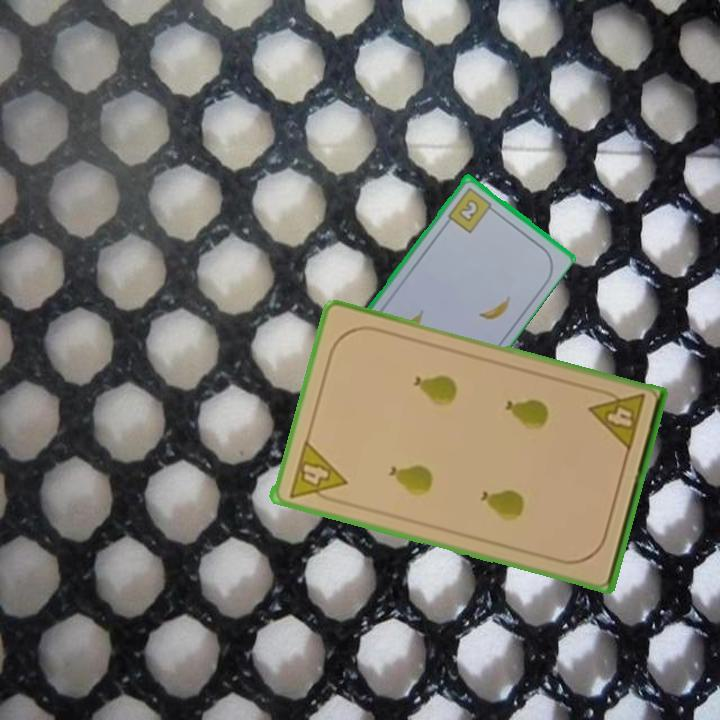2b: (444, 183, 498, 235)
4p: (285, 436, 349, 507), (585, 385, 648, 455)
